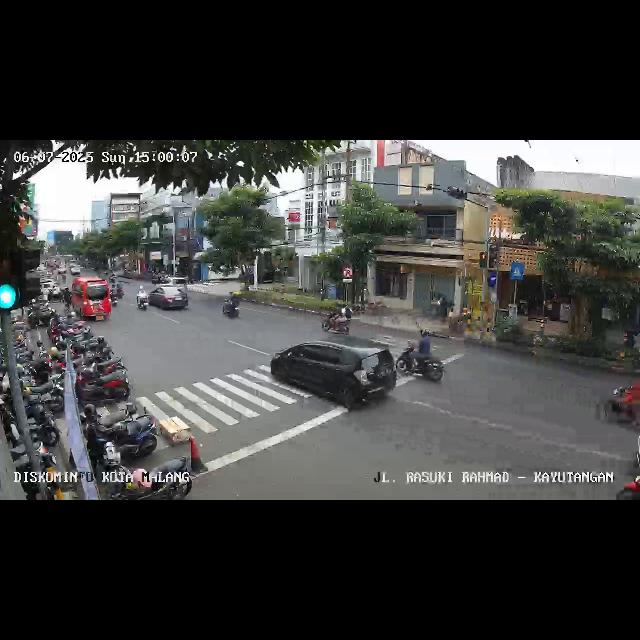car: (272, 336, 401, 412), (70, 277, 112, 323), (146, 283, 190, 313), (70, 263, 82, 275)
motorcycle: (397, 332, 445, 384), (602, 371, 640, 432), (614, 432, 640, 500), (322, 306, 352, 334), (222, 289, 242, 321), (136, 284, 150, 310), (111, 280, 123, 302)
